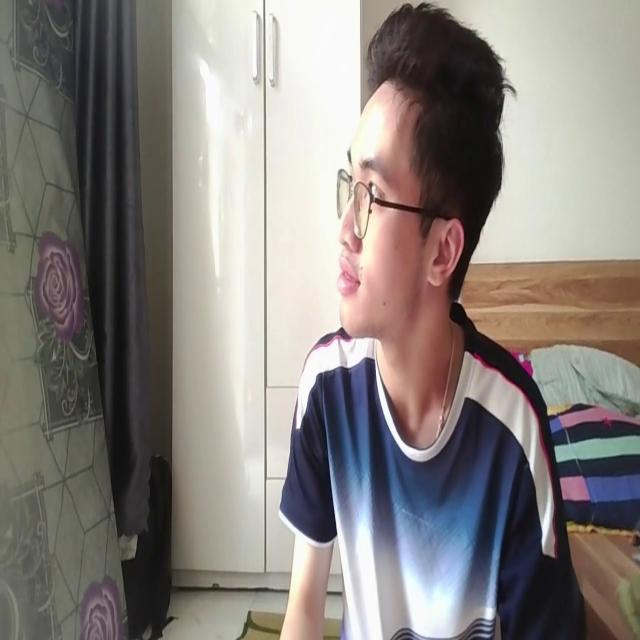student: (278, 6, 576, 640)
